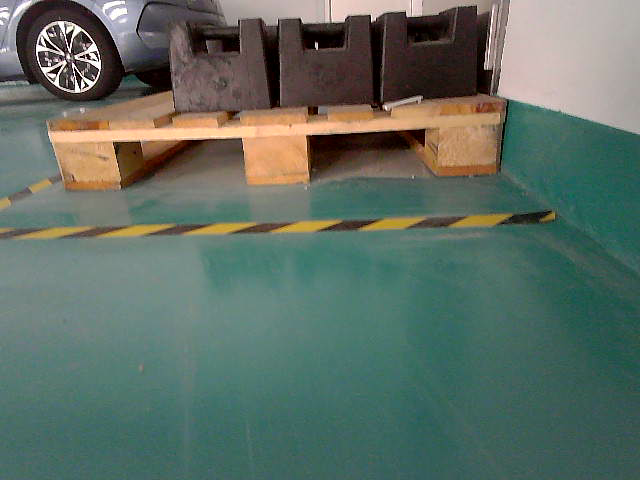block: (235, 119, 316, 185), (48, 121, 121, 190), (437, 105, 505, 175)
front: (47, 100, 505, 189)
hole pallet: (308, 127, 440, 180), (114, 139, 242, 187)
